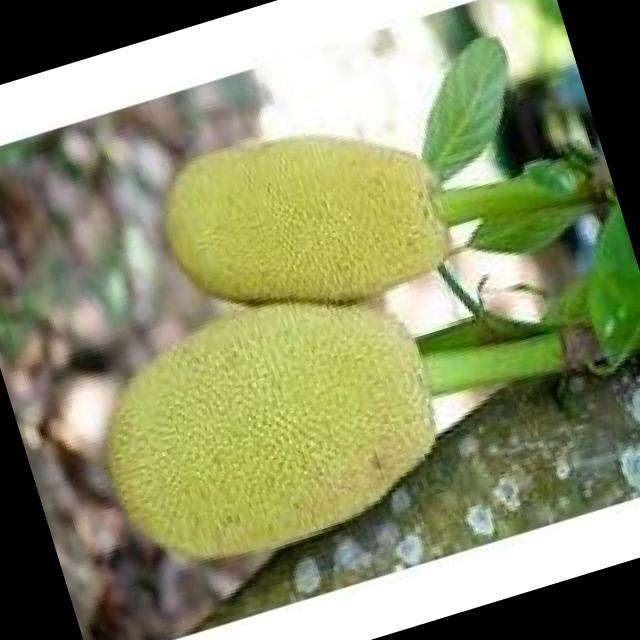Fruit: (54, 232, 478, 602), (125, 73, 477, 373)
